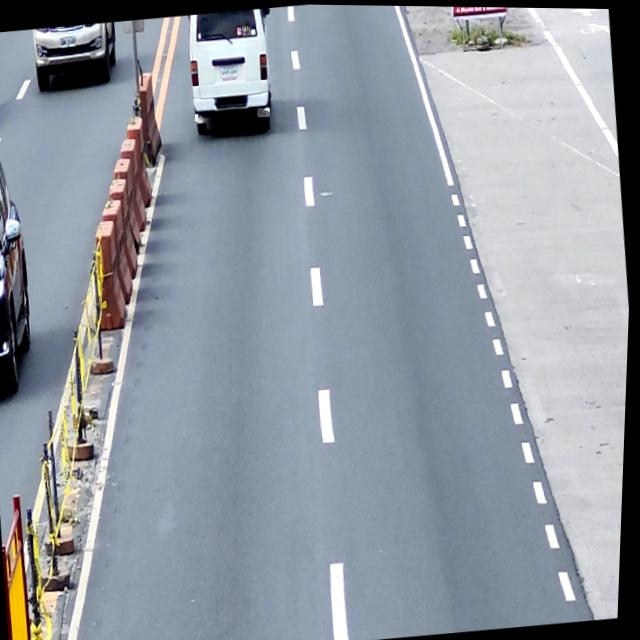Car: (182, 6, 281, 136), (0, 133, 45, 395), (30, 20, 121, 91)
License-Plate: (219, 63, 241, 81), (59, 33, 78, 51)
